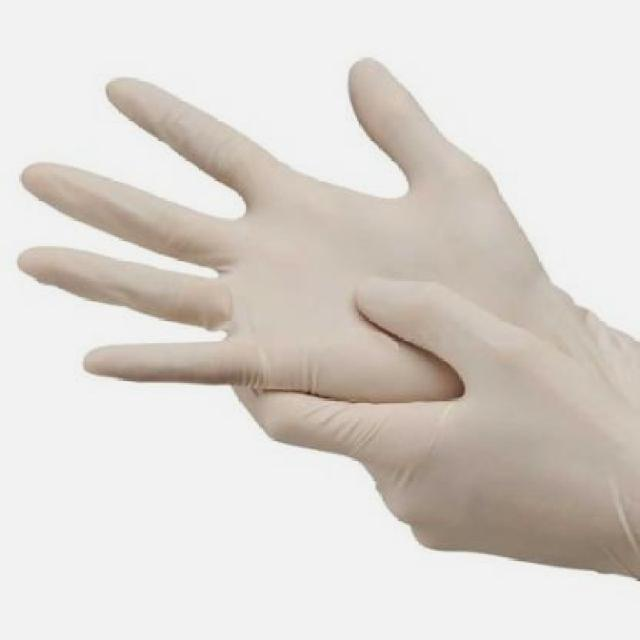glove: (22, 58, 638, 548)
